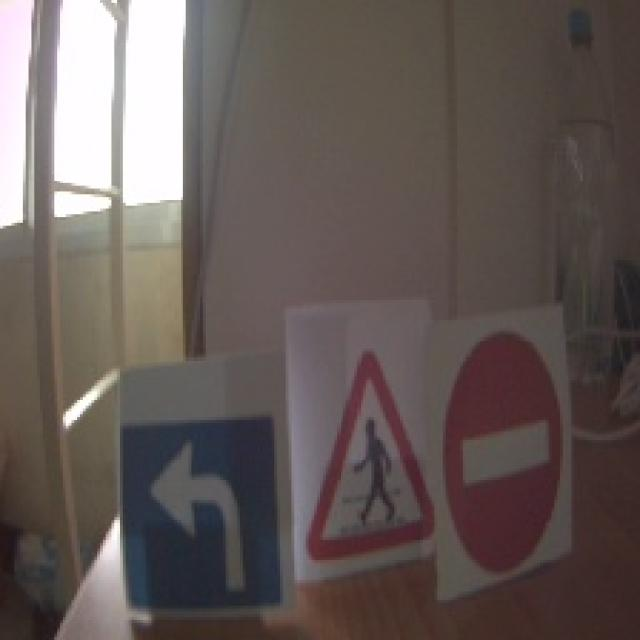DoNotEnterSign: (443, 334, 566, 576)
